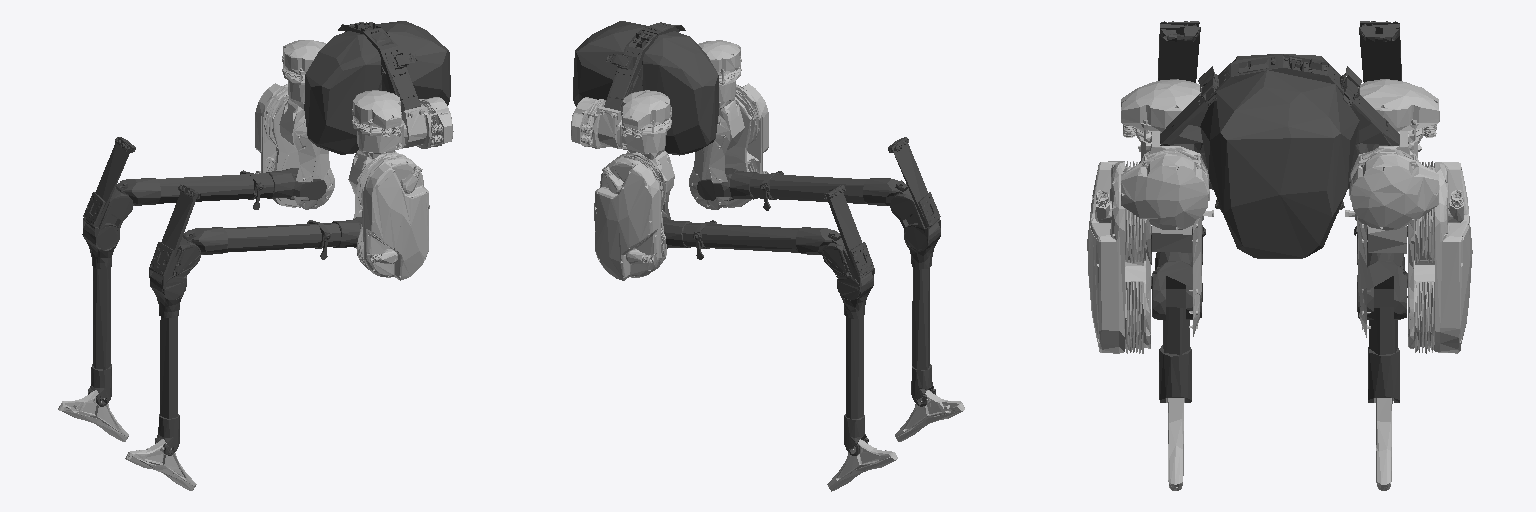
URDF robot description (cassie):
<?xml version="1.0" ?>
<robot name="cassie" xmlns:xacro="http://ros.org/wiki/xacro">
  <link name="base">
    <inertial>
      <origin rpy="0 0 0" xyz=".0507 0 .0284"/>
      <mass value="0.1"/>
      <inertia ixx=".00001" ixy="0." ixz=".015" iyy=".00001" iyz=".0" izz=".00001"/>
    </inertial>
  </link>
  <link name="pelvis">
    <!-- <inertial>
      <origin rpy="0 0 0" xyz=".0507 0 .0284"/>
      <mass value="10.33"/>
      <inertia ixx=".0942" ixy=".000169" ixz=".015" iyy=".084" iyz=".000516" izz=".113"/>
    </inertial> -->
    <visual>
      <origin rpy="0 0 0" xyz="0 0 0"/>
      <geometry>
        <mesh filename="../meshes/pelvis.stl" scale="1 1 1"/>
      </geometry>
      <material name="grey">
        <color rgba="0.35 0.35 0.35 1"/>
      </material>
    </visual>
    <collision>
      <origin rpy="0 0 0" xyz="0. 0. 0."/>
      <geometry>
        <sphere radius="0.25"/>
      </geometry>
    </collision>
    <inertial>
      <origin rpy="0 0 0" xyz=".0507 0 .0284"/>
      <mass value="10.33"/>
      <inertia ixx=".0942" ixy=".000169" ixz=".015" iyy=".084" iyz=".000516" izz=".113"/>
    </inertial>
  </link>
  <link name="left_pelvis_abduction">
    <inertial>
      <origin rpy="0 0 0" xyz="0 0 0"/>
      <mass value="0"/>
      <inertia ixx="0" ixy="0" ixz="0" iyy="0" iyz="0" izz="0"/>
    </inertial>
    <visual>
      <origin rpy="0 0 0" xyz="0 0 0"/>
      <geometry>
        <mesh filename="../meshes/abduction.stl" scale="1 1 1"/>
      </geometry>
      <material name="light_grey">
        <color rgba="0.75 0.75 0.75 1"/>
      </material>
    </visual>
  </link>
  <link name="left_pelvis_rotation">
    <inertial>
      <origin rpy="0 0 0" xyz=".0257 0.0001 .0179"/>
      <mass value="1.82"/>
      <inertia ixx=".00272" ixy="7.03e-07" ixz=".00000153" iyy=".00559" iyz="2.61e-06" izz=".004640"/>
    </inertial>
    <visual>
      <origin rpy="0 0 0" xyz="0 0 0"/>
      <geometry>
        <mesh filename="../meshes/yaw.stl" scale="1 1 1"/>
      </geometry>
      <material name="light_grey">
        <color rgba="0.75 0.75 0.75 1"/>
      </material>
    </visual>
  </link>
  <link name="left_hip">
    <inertial>
      <origin rpy="0 0 0" xyz="-.0557 0 0"/>
      <mass value="1.17"/>
      <inertia ixx=".000842" ixy=".000000246" ixz="-.000000625" iyy=".006080" iyz="-.00000004" izz=".006440"/>
    </inertial>
    <visual>
      <origin rpy="0 0 0" xyz="0 0 0"/>
      <geometry>
        <mesh filename="../meshes/hip.stl" scale="1 1 1"/>
      </geometry>
      <material name="light_grey">
        <color rgba="0.75 0.75 0.75 1"/>
      </material>
    </visual>
  </link>
  <link name="left_thigh">
    <inertial>
      <origin rpy="0 0 0" xyz=".0598 .0001 -0.0358"/>
      <mass value="5.52"/>
      <inertia ixx=".018" ixy=".000284" ixz="-0.0117" iyy=".0563" iyz="-1.93e-05" izz=".0498"/>
    </inertial>
    <visual>
      <origin rpy="0 0 0" xyz="0 0 0"/>
      <geometry>
        <mesh filename="../meshes/thigh.stl" scale="1 1 1"/>
      </geometry>
      <material name="light_grey">
        <color rgba="0.75 0.75 0.75 1"/>
      </material>
    </visual>
  </link>
  <!-- <link name="left_knee">
    <inertial>
      <origin rpy="0 0 0" xyz=".023 .0321 -0.0022"/>
      <mass value=".758"/>
      <inertia ixx=".002160" ixy=".000956" ixz="2.84e-06" iyy=".00144" iyz="7.39e-07" izz=".00334"/>
    </inertial>
    <visual>
      <origin rpy="0 0 0" xyz="0 0 0"/>
      <geometry>
        <mesh filename="../meshes/knee-output.stl" scale="1 1 1"/>
      </geometry>
      <material name="grey">
        <color rgba="0.35 0.35 0.35 1"/>
      </material>
    </visual>
  </link> -->
  <link name="left_shin">
    <inertial>
      <origin rpy="0 0 0" xyz=".1834 .0012 0.0002"/>
      <mass value=".577"/>
      <inertia ixx=".000360" ixy=".000334" ixz="-1.94e-07" iyy=".0341" iyz="2.65e-07" izz=".0341"/>
    </inertial>
    <visual>
      <origin rpy="0 0 0" xyz="0 0 0"/>
      <geometry>
        <mesh filename="../meshes/shin-bone.stl" scale="1 1 1"/>
      </geometry>
      <material name="grey">
        <color rgba="0.35 0.35 0.35 1"/>
      </material>
    </visual>
  </link>
  <link name="left_tarsus">
    <inertial>
      <origin rpy="0 0 0" xyz=".1105 -.0306 -0.0013"/>
      <mass value=".782"/>
      <inertia ixx=".00113" ixy="-.00288" ixz="-6.33e-05" iyy=".0231" iyz="3.62e-05" izz=".0239"/>
    </inertial>
    <visual>
      <origin rpy="0 0 0" xyz="0 0 0"/>
      <geometry>
        <mesh filename="../meshes/tarsus.stl" scale="1 1 1"/>
      </geometry>
      <material name="grey">
        <color rgba="0.35 0.35 0.35 1"/>
      </material>
    </visual>
  </link>
  <link name="left_toe">
    <inertial>
      <origin rpy="0 0 0" xyz=".0047 .0275 -0.0001"/>
      <mass value=".15"/>
      <inertia ixx=".000287" ixy="-.0000986" ixz="-1.46e-06" iyy=".000171" iyz="1.72e-07" izz=".010449"/>
    </inertial>
    <visual>
      <origin rpy="0 0 0" xyz="0 0 0"/>
      <geometry>
        <mesh filename="../meshes/toe.stl" scale="1 1 1"/>
      </geometry>
      <material name="light_grey">
        <color rgba="0.75 0.75 0.75 1"/>
      </material>
    </visual>
    <collision>
      <origin rpy="1.57 0 0.85" xyz="0.03 0.03 0."/>
      <geometry>
        <cylinder length="0.125" radius="0.02"/>
      </geometry>
    </collision>
  </link>
  <link name="right_pelvis_abduction">
    <inertial>
      <origin rpy="0 0 0" xyz="0 0 0"/>
      <mass value="0"/>
      <inertia ixx="0" ixy="0" ixz="0" iyy="0" iyz="0" izz="0"/>
    </inertial>
    <visual>
      <origin rpy="0 0 0" xyz="0 0 0"/>
      <geometry>
        <mesh filename="../meshes/abduction_mirror.stl" scale="1 1 1"/>
      </geometry>
      <material name="light_grey">
        <color rgba="0.75 0.75 0.75 1"/>
      </material>
    </visual>
  </link>
  <link name="right_pelvis_rotation">
    <inertial>
      <origin rpy="0 0 0" xyz=".0257 -0.0001 .0179"/>
      <mass value="1.82"/>
      <inertia ixx=".00272" ixy="-7.03e-07" ixz=".00000153" iyy=".00559" iyz="-2.61e-06" izz=".004640"/>
    </inertial>
    <visual>
      <origin rpy="0 0 0" xyz="0 0 0"/>
      <geometry>
        <mesh filename="../meshes/yaw_mirror.stl" scale="1 1 1"/>
      </geometry>
      <material name="light_grey">
        <color rgba="0.75 0.75 0.75 1"/>
      </material>
    </visual>
  </link>
  <link name="right_hip">
    <inertial>
      <origin rpy="0 0 0" xyz="-.0557 0 0"/>
      <mass value="1.17"/>
      <inertia ixx=".000842" ixy=".000000246" ixz="-.000000625" iyy=".006080" iyz="-.00000004" izz=".006440"/>
    </inertial>
    <visual>
      <origin rpy="0 0 0" xyz="0 0 0"/>
      <geometry>
        <mesh filename="../meshes/hip_mirror.stl" scale="1 1 1"/>
      </geometry>
      <material name="light_grey">
        <color rgba="0.75 0.75 0.75 1"/>
      </material>
    </visual>
  </link>
  <link name="right_thigh">
    <inertial>
      <origin rpy="0 0 0" xyz=".0598 .0001 0.0358"/>
      <mass value="5.52"/>
      <inertia ixx=".018" ixy=".000284" ixz="0.0117" iyy=".0563" iyz="1.93e-05" izz=".0498"/>
    </inertial>
    <visual>
      <origin rpy="0 0 0" xyz="0 0 0"/>
      <geometry>
        <mesh filename="../meshes/thigh_mirror.stl" scale="1 1 1"/>
      </geometry>
      <material name="light_grey">
        <color rgba="0.75 0.75 0.75 1"/>
      </material>
    </visual>
  </link>
  <!-- <link name="right_knee">
    <inertial>
      <origin rpy="0 0 0" xyz=".023 .0321 0.0022"/>
      <mass value=".758"/>
      <inertia ixx=".002160" ixy=".000956" ixz="-2.84e-06" iyy=".00144" iyz="-7.39e-07" izz=".00334"/>
    </inertial>
    <visual>
      <origin rpy="0 0 0" xyz="0 0 0"/>
      <geometry>
        <mesh filename="../meshes/knee-output_mirror.stl" scale="1 1 1"/>
      </geometry>
      <material name="grey">
        <color rgba="0.35 0.35 0.35 1"/>
      </material>
    </visual>
  </link> -->
  <link name="right_shin">
    <inertial>
      <origin rpy="0 0 0" xyz=".1834 .0012 -0.0002"/>
      <mass value=".577"/>
      <inertia ixx=".000360" ixy=".000334" ixz="1.94e-07" iyy=".0341" iyz="-2.65e-07" izz=".0341"/>
    </inertial>
    <visual>
      <origin rpy="0 0 0" xyz="0 0 0"/>
      <geometry>
        <mesh filename="../meshes/shin-bone_mirror.stl" scale="1 1 1"/>
      </geometry>
      <material name="grey">
        <color rgba="0.35 0.35 0.35 1"/>
      </material>
    </visual>
  </link>
  <link name="right_tarsus">
    <inertial>
      <origin rpy="0 0 0" xyz=".1105 -.0306 0.0013"/>
      <mass value=".782"/>
      <inertia ixx=".00113" ixy="-.00288" ixz="6.33e-05" iyy=".0231" iyz="-3.62e-05" izz=".0239"/>
    </inertial>
    <visual>
      <origin rpy="0 0 0" xyz="0 0 0"/>
      <geometry>
        <mesh filename="../meshes/tarsus_mirror.stl" scale="1 1 1"/>
      </geometry>
      <material name="grey">
        <color rgba="0.35 0.35 0.35 1"/>
      </material>
    </visual>
  </link>
  <link name="right_toe">
    <inertial>
      <origin rpy="0 0 0" xyz=".0047 .0275 0.0001"/>
      <mass value=".15"/>
      <inertia ixx=".000287" ixy="-.0000986" ixz="1.46e-06" iyy=".000171" iyz="-1.72e-07" izz=".010449"/>
    </inertial>
    <visual>
      <origin rpy="0 0 0" xyz="0 0 0"/>
      <geometry>
        <mesh filename="../meshes/toe_mirror.stl" scale="1 1 1"/>
      </geometry>
      <material name="light_grey">
        <color rgba="0.75 0.75 0.75 1"/>
      </material>
    </visual>
    <collision>
      <origin rpy="1.57 0 0.85" xyz="0.03 0.03 0."/>
      <geometry>
        <cylinder length="0.125" radius="0.02"/>
      </geometry>
    </collision>
  </link>
  <joint name="fixed_pelvis_to_base" type="fixed">
    <origin rpy="0 0 0" xyz="0.03155 0 -0.07996"/>
    <parent link="pelvis"/>
    <child link="base"/>
  </joint>
  <joint name="fixed_left" type="fixed">
    <origin rpy="0 1.57079632679 0" xyz="0.021 0.135 0"/>
    <parent link="pelvis"/>
    <child link="left_pelvis_abduction"/>
  </joint>
  <joint name="hip_abduction_left" type="revolute">
    <origin rpy="0 -1.57079632679 0" xyz="0 0 -0.07"/>
    <axis xyz="1 0 0"/>
    <parent link="left_pelvis_abduction"/>
    <child link="left_pelvis_rotation"/>
    <limit effort="112" lower="-0.2618" upper="0.3927" velocity="20.1475"/>
  </joint>
  <joint name="hip_rotation_left" type="revolute">
    <origin rpy="0 1.57079632679 -1.57079632679" xyz="0 0 -0.09"/>
    <axis xyz="-1 0 0"/>
    <parent link="left_pelvis_rotation"/>
    <child link="left_hip"/>
    <limit effort="112" lower="-0.3927" upper="0.3927" velocity="20.1475"/>
  </joint>
  <joint name="hip_flexion_left" type="revolute">
    <origin rpy="0 0 0" xyz="0 0 0"/>
    <axis xyz="0 0 1"/>
    <parent link="left_hip"/>
    <child link="left_thigh"/>
    <limit effort="195" lower="-0.8727" upper="1.3963" velocity="20.5085"/>
  </joint>
  <joint name="thigh_joint_left" type="revolute">
    <origin rpy="0 0 0" xyz="0.12 0 0.0045"/>
    <axis xyz="0 0 1"/>
    <parent link="left_thigh"/>
    <child link="left_shin"/>
    <limit effort="195" lower="-2.8623" upper="-0.6458" velocity="20.5085"/>
  </joint>
  <!-- <joint name="knee_to_shin_left" type="revolute">
    <origin rpy="0 0 0" xyz="0.0607 0.0474 0"/>
    <axis xyz="0 0 1"/>
    <parent link="left_knee"/>
    <child link="left_shin"/>
    <limit effort="0" lower="-100" upper="100" velocity="100"/>
  </joint> -->
  <joint name="ankle_joint_left" type="revolute">
    <origin rpy="0 0 0" xyz="0.4348 0.02 0"/>
    <axis xyz="0 0 1"/>
    <parent link="left_shin"/>
    <child link="left_tarsus"/>
    <limit effort="195" lower="0.6458" upper="2.8623" velocity="20.5085"/>
  </joint>
  <joint name="toe_joint_left" type="revolute">
    <origin rpy="0 0 0" xyz="0.408 -0.04 0"/>
    <axis xyz="0 0 1"/>
    <parent link="left_tarsus"/>
    <child link="left_toe"/>
    <limit effort="45" lower="-2.4435" upper="-0.5236" velocity="20.5192"/>
  </joint>
  <joint name="fixed_right" type="fixed">
    <origin rpy="0 1.57079632679 0" xyz="0.021 -0.135 0"/>
    <parent link="pelvis"/>
    <child link="right_pelvis_abduction"/>
  </joint>
  <joint name="hip_abduction_right" type="revolute">
    <origin rpy="0 -1.57079632679 0" xyz="0 0 -0.07"/>
    <axis xyz="1 0 0"/>
    <parent link="right_pelvis_abduction"/>
    <child link="right_pelvis_rotation"/>
    <limit effort="112" lower="-0.3927" upper="0.2618" velocity="20.1475"/>
  </joint>
  <joint name="hip_rotation_right" type="revolute">
    <origin rpy="0 1.57079632679 -1.57079632679" xyz="0 0 -0.09"/>
    <axis xyz="-1 0 0"/>
    <parent link="right_pelvis_rotation"/>
    <child link="right_hip"/>
    <limit effort="112" lower="-0.3927" upper="0.3927" velocity="20.1475"/>
  </joint>
  <joint name="hip_flexion_right" type="revolute">
    <origin rpy="0 0 0" xyz="0 0 0"/>
    <axis xyz="0 0 1"/>
    <parent link="right_hip"/>
    <child link="right_thigh"/>
    <limit effort="195" lower="-0.8727" upper="1.3963" velocity="20.5085"/>
  </joint>
  <joint name="thigh_joint_right" type="revolute">
    <origin rpy="0 0 0" xyz="0.12 0 -0.0045"/>
    <axis xyz="0 0 1"/>
    <parent link="right_thigh"/>
    <child link="right_shin"/>
    <limit effort="195" lower="-2.8623" upper="-0.6458" velocity="20.5085"/>
  </joint>
  <!-- <joint name="knee_to_shin_right" type="revolute">
    <origin rpy="0 0 0" xyz="0.0607 0.0474 0"/>
    <axis xyz="0 0 1"/>
    <parent link="right_knee"/>
    <child link="right_shin"/>
    <limit effort="0" lower="-100" upper="100" velocity="100"/>
  </joint> -->
  <joint name="ankle_joint_right" type="revolute">
    <origin rpy="0 0 0" xyz="0.4348 0.02 0"/>
    <axis xyz="0 0 1"/>
    <parent link="right_shin"/>
    <child link="right_tarsus"/>
    <limit effort="195" lower="0.6458" upper="2.8623" velocity="20.5085"/>
  </joint>
  <joint name="toe_joint_right" type="revolute">
    <origin rpy="0 0 0" xyz="0.408 -0.04 0"/>
    <axis xyz="0 0 1"/>
    <parent link="right_tarsus"/>
    <child link="right_toe"/>
    <limit effort="45" lower="-2.4435" upper="-0.5236" velocity="20.5192"/>
  </joint>
  <!-- <transmission name="hip_abduction_trans_left" type="transmission_interface/SimpleTransmission">
    <joint name="hip_abduction_left"/>
    <actuator name="hip_abduction_motor_left"/>
    <motorInertia>0.000061</motorInertia>
    <mechanicalReduction>25</mechanicalReduction>
  </transmission>
  <transmission name="hip_rotation_trans_left" type="transmission_interface/SimpleTransmission">
    <joint name="hip_rotation_left"/>
    <actuator name="hip_rotation_motor_left"/>
    <motorInertia>0.000061</motorInertia>
    <mechanicalReduction>25</mechanicalReduction>
  </transmission>
  <transmission name="hip_flexion_trans_left" type="transmission_interface/SimpleTransmission">
    <joint name="hip_flexion_left"/>
    <actuator name="hip_flexion_motor_left"/>
    <motorInertia>0.000365</motorInertia>
    <mechanicalReduction>16</mechanicalReduction>
  </transmission>
  <transmission name="knee_joint_trans_left" type="transmission_interface/SimpleTransmission">
    <joint name="knee_joint_left"/>
    <actuator name="knee_joint_motor_left"/>
    <motorInertia>0.000365</motorInertia>
    <mechanicalReduction>16</mechanicalReduction>
  </transmission>
  <transmission name="toe_joint_trans_left" type="transmission_interface/SimpleTransmission">
    <joint name="toe_joint_left"/>
    <actuator name="toe_joint_motor_left"/>
    <motorInertia>0.0000049</motorInertia>
    <mechanicalReduction>50</mechanicalReduction>
  </transmission>
  <transmission name="hip_abduction_trans_right" type="transmission_interface/SimpleTransmission">
    <joint name="hip_abduction_right"/>
    <actuator name="hip_abduction_motor_right"/>
    <motorInertia>0.000061</motorInertia>
    <mechanicalReduction>25</mechanicalReduction>
  </transmission>
  <transmission name="hip_rotation_trans_right" type="transmission_interface/SimpleTransmission">
    <joint name="hip_rotation_right"/>
    <actuator name="hip_rotation_motor_right"/>
    <motorInertia>0.000061</motorInertia>
    <mechanicalReduction>25</mechanicalReduction>
  </transmission>
  <transmission name="hip_flexion_trans_right" type="transmission_interface/SimpleTransmission">
    <joint name="hip_flexion_right"/>
    <actuator name="hip_flexion_motor_right"/>
    <motorInertia>0.000365</motorInertia>
    <mechanicalReduction>16</mechanicalReduction>
  </transmission>
  <transmission name="knee_joint_trans_right" type="transmission_interface/SimpleTransmission">
    <joint name="knee_joint_right"/>
    <actuator name="knee_joint_motor_right"/>
    <motorInertia>0.000365</motorInertia>
    <mechanicalReduction>16</mechanicalReduction>
  </transmission>
  <transmission name="toe_joint_trans_right" type="transmission_interface/SimpleTransmission">
    <joint name="toe_joint_right"/>
    <actuator name="toe_joint_motor_right"/>
    <motorInertia>0.0000049</motorInertia>
    <mechanicalReduction>50</mechanicalReduction>
  </transmission> -->
</robot>

--- Render facts (derived) ---
Views: 3 orthographic renders of the robot side by side, from view 1: azimuth 30°, elevation 25°; view 2: azimuth 150°, elevation 25°; view 3: azimuth 270°, elevation 25°.
Model cassie with 16 links and 15 joints (12 revolute, 3 fixed), rooted at pelvis, posed joints at zero except 6 at the middle of their limits (thigh_joint_left = -1.75, ankle_joint_left = 1.75, toe_joint_left = -1.48, thigh_joint_right = -1.75, ankle_joint_right = 1.75, toe_joint_right = -1.48).
Visible links, largest first — view 1: pelvis, right_thigh, right_tarsus, left_tarsus, left_shin, left_thigh, right_shin, right_pelvis_rotation, right_pelvis_abduction, left_pelvis_rotation, right_toe, left_toe (+2 smaller); view 2: pelvis, left_thigh, left_tarsus, right_tarsus, right_shin, right_thigh, left_shin, left_pelvis_rotation, left_pelvis_abduction, right_pelvis_rotation, right_toe, left_toe (+2 smaller); view 3: pelvis, left_thigh, right_thigh, right_pelvis_abduction, left_pelvis_abduction, left_tarsus, right_tarsus, left_pelvis_rotation, right_pelvis_rotation, right_shin, left_shin, left_toe (+3 smaller).
Boxes of the visible links, box(x1,y1,x2,y2) form: pelvis: box(304, 21, 450, 154); right_thigh: box(351, 152, 429, 280); right_tarsus: box(149, 184, 201, 455); left_tarsus: box(82, 137, 135, 406); left_shin: box(112, 168, 326, 209); left_thigh: box(255, 83, 334, 209); right_shin: box(178, 217, 361, 259); right_pelvis_rotation: box(352, 90, 407, 152); right_pelvis_abduction: box(402, 97, 453, 148); left_pelvis_rotation: box(282, 40, 325, 101); right_toe: box(125, 439, 196, 490); left_toe: box(58, 390, 128, 441); pelvis: box(573, 21, 718, 155); left_thigh: box(594, 153, 670, 280); left_tarsus: box(822, 185, 874, 455); right_tarsus: box(888, 137, 940, 406); right_shin: box(697, 168, 911, 210); right_thigh: box(689, 83, 768, 209); left_shin: box(663, 217, 844, 259); left_pelvis_rotation: box(617, 90, 671, 153); left_pelvis_abduction: box(571, 97, 621, 148); right_pelvis_rotation: box(698, 40, 741, 101); right_toe: box(895, 390, 964, 441); left_toe: box(827, 439, 897, 491); pelvis: box(1160, 54, 1399, 258); left_thigh: box(1345, 161, 1472, 353); right_thigh: box(1087, 161, 1213, 353); right_pelvis_abduction: box(1121, 131, 1209, 229); left_pelvis_abduction: box(1349, 131, 1438, 230); left_tarsus: box(1359, 21, 1401, 402); right_tarsus: box(1158, 21, 1200, 402); left_pelvis_rotation: box(1358, 79, 1439, 157); right_pelvis_rotation: box(1121, 79, 1201, 158); right_shin: box(1151, 225, 1205, 320); left_shin: box(1354, 226, 1407, 319); left_toe: box(1374, 398, 1393, 490).
Size in the robot's own frame: 0.7739 by 0.4831 by 0.8277 metres.
15 mesh visuals loaded from 15 distinct referenced files (15 binary STL).
